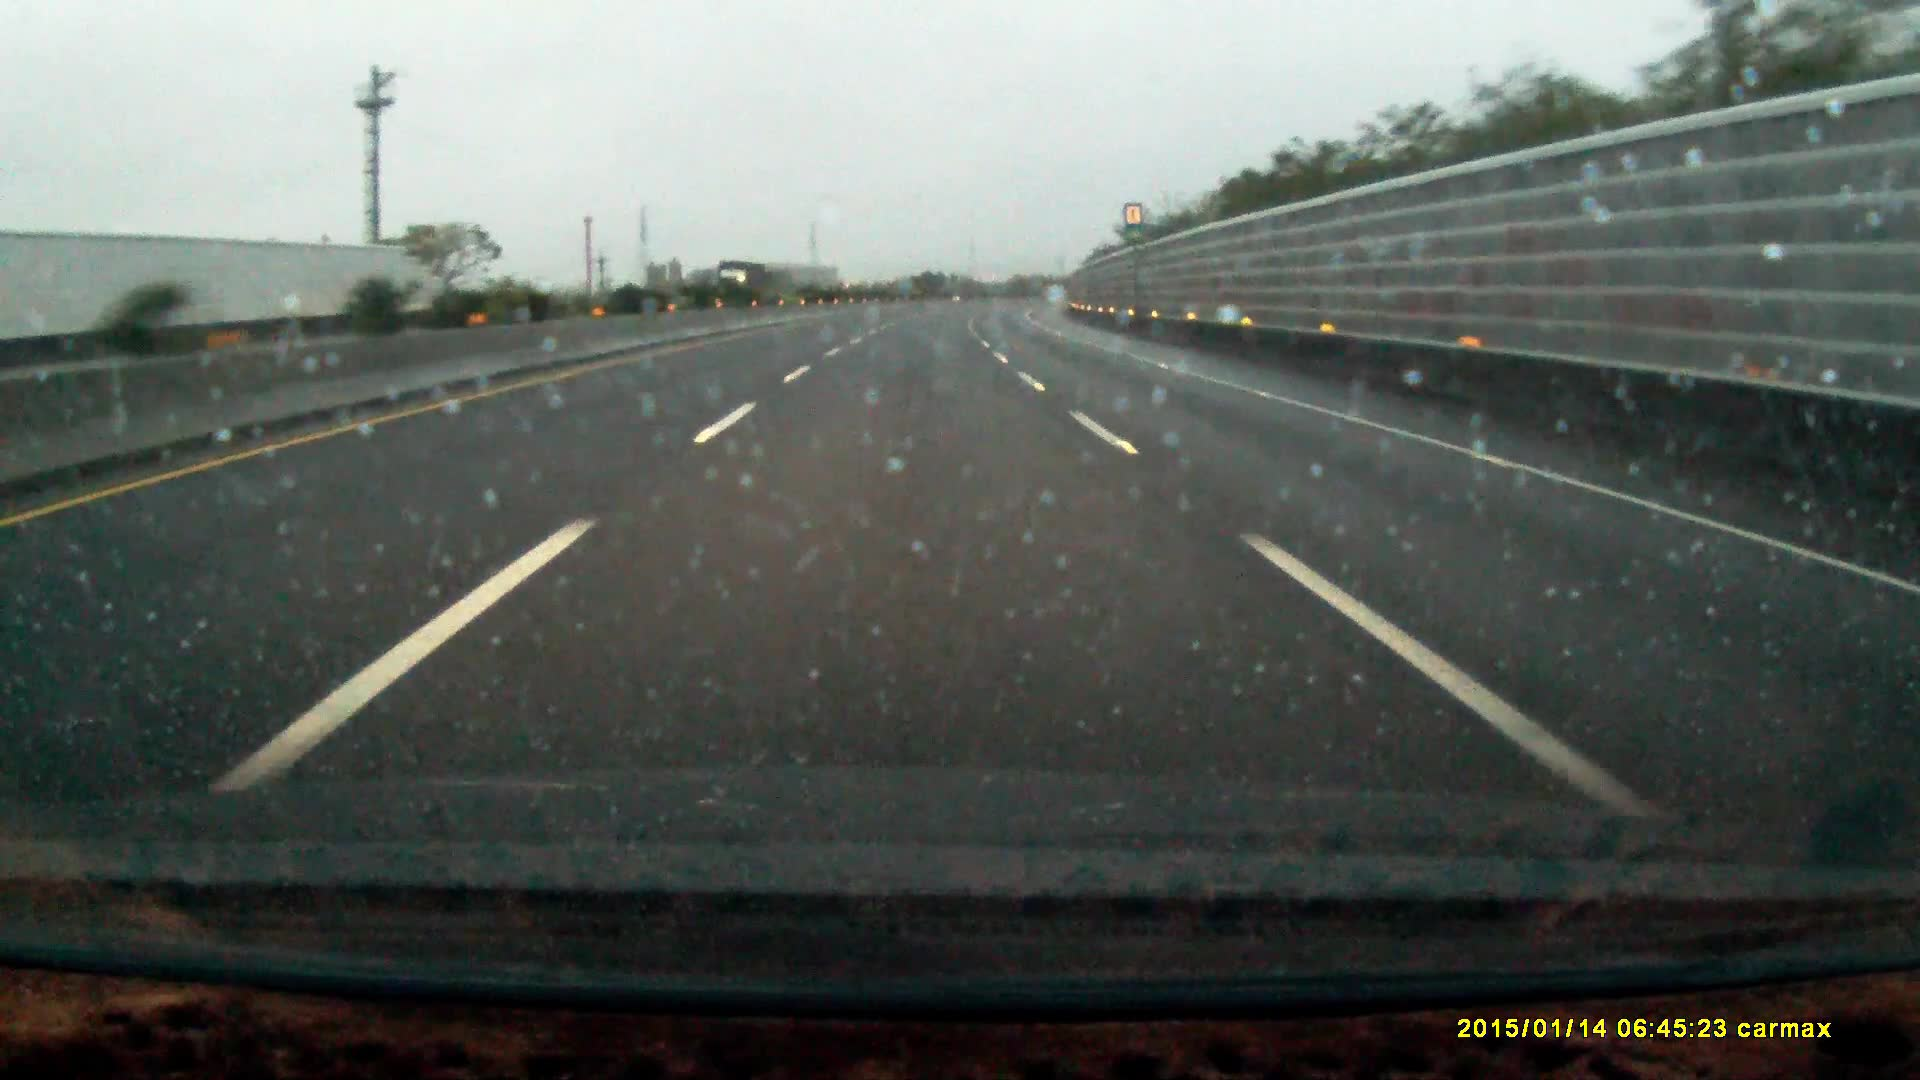vehicle: (716, 262, 767, 301)
